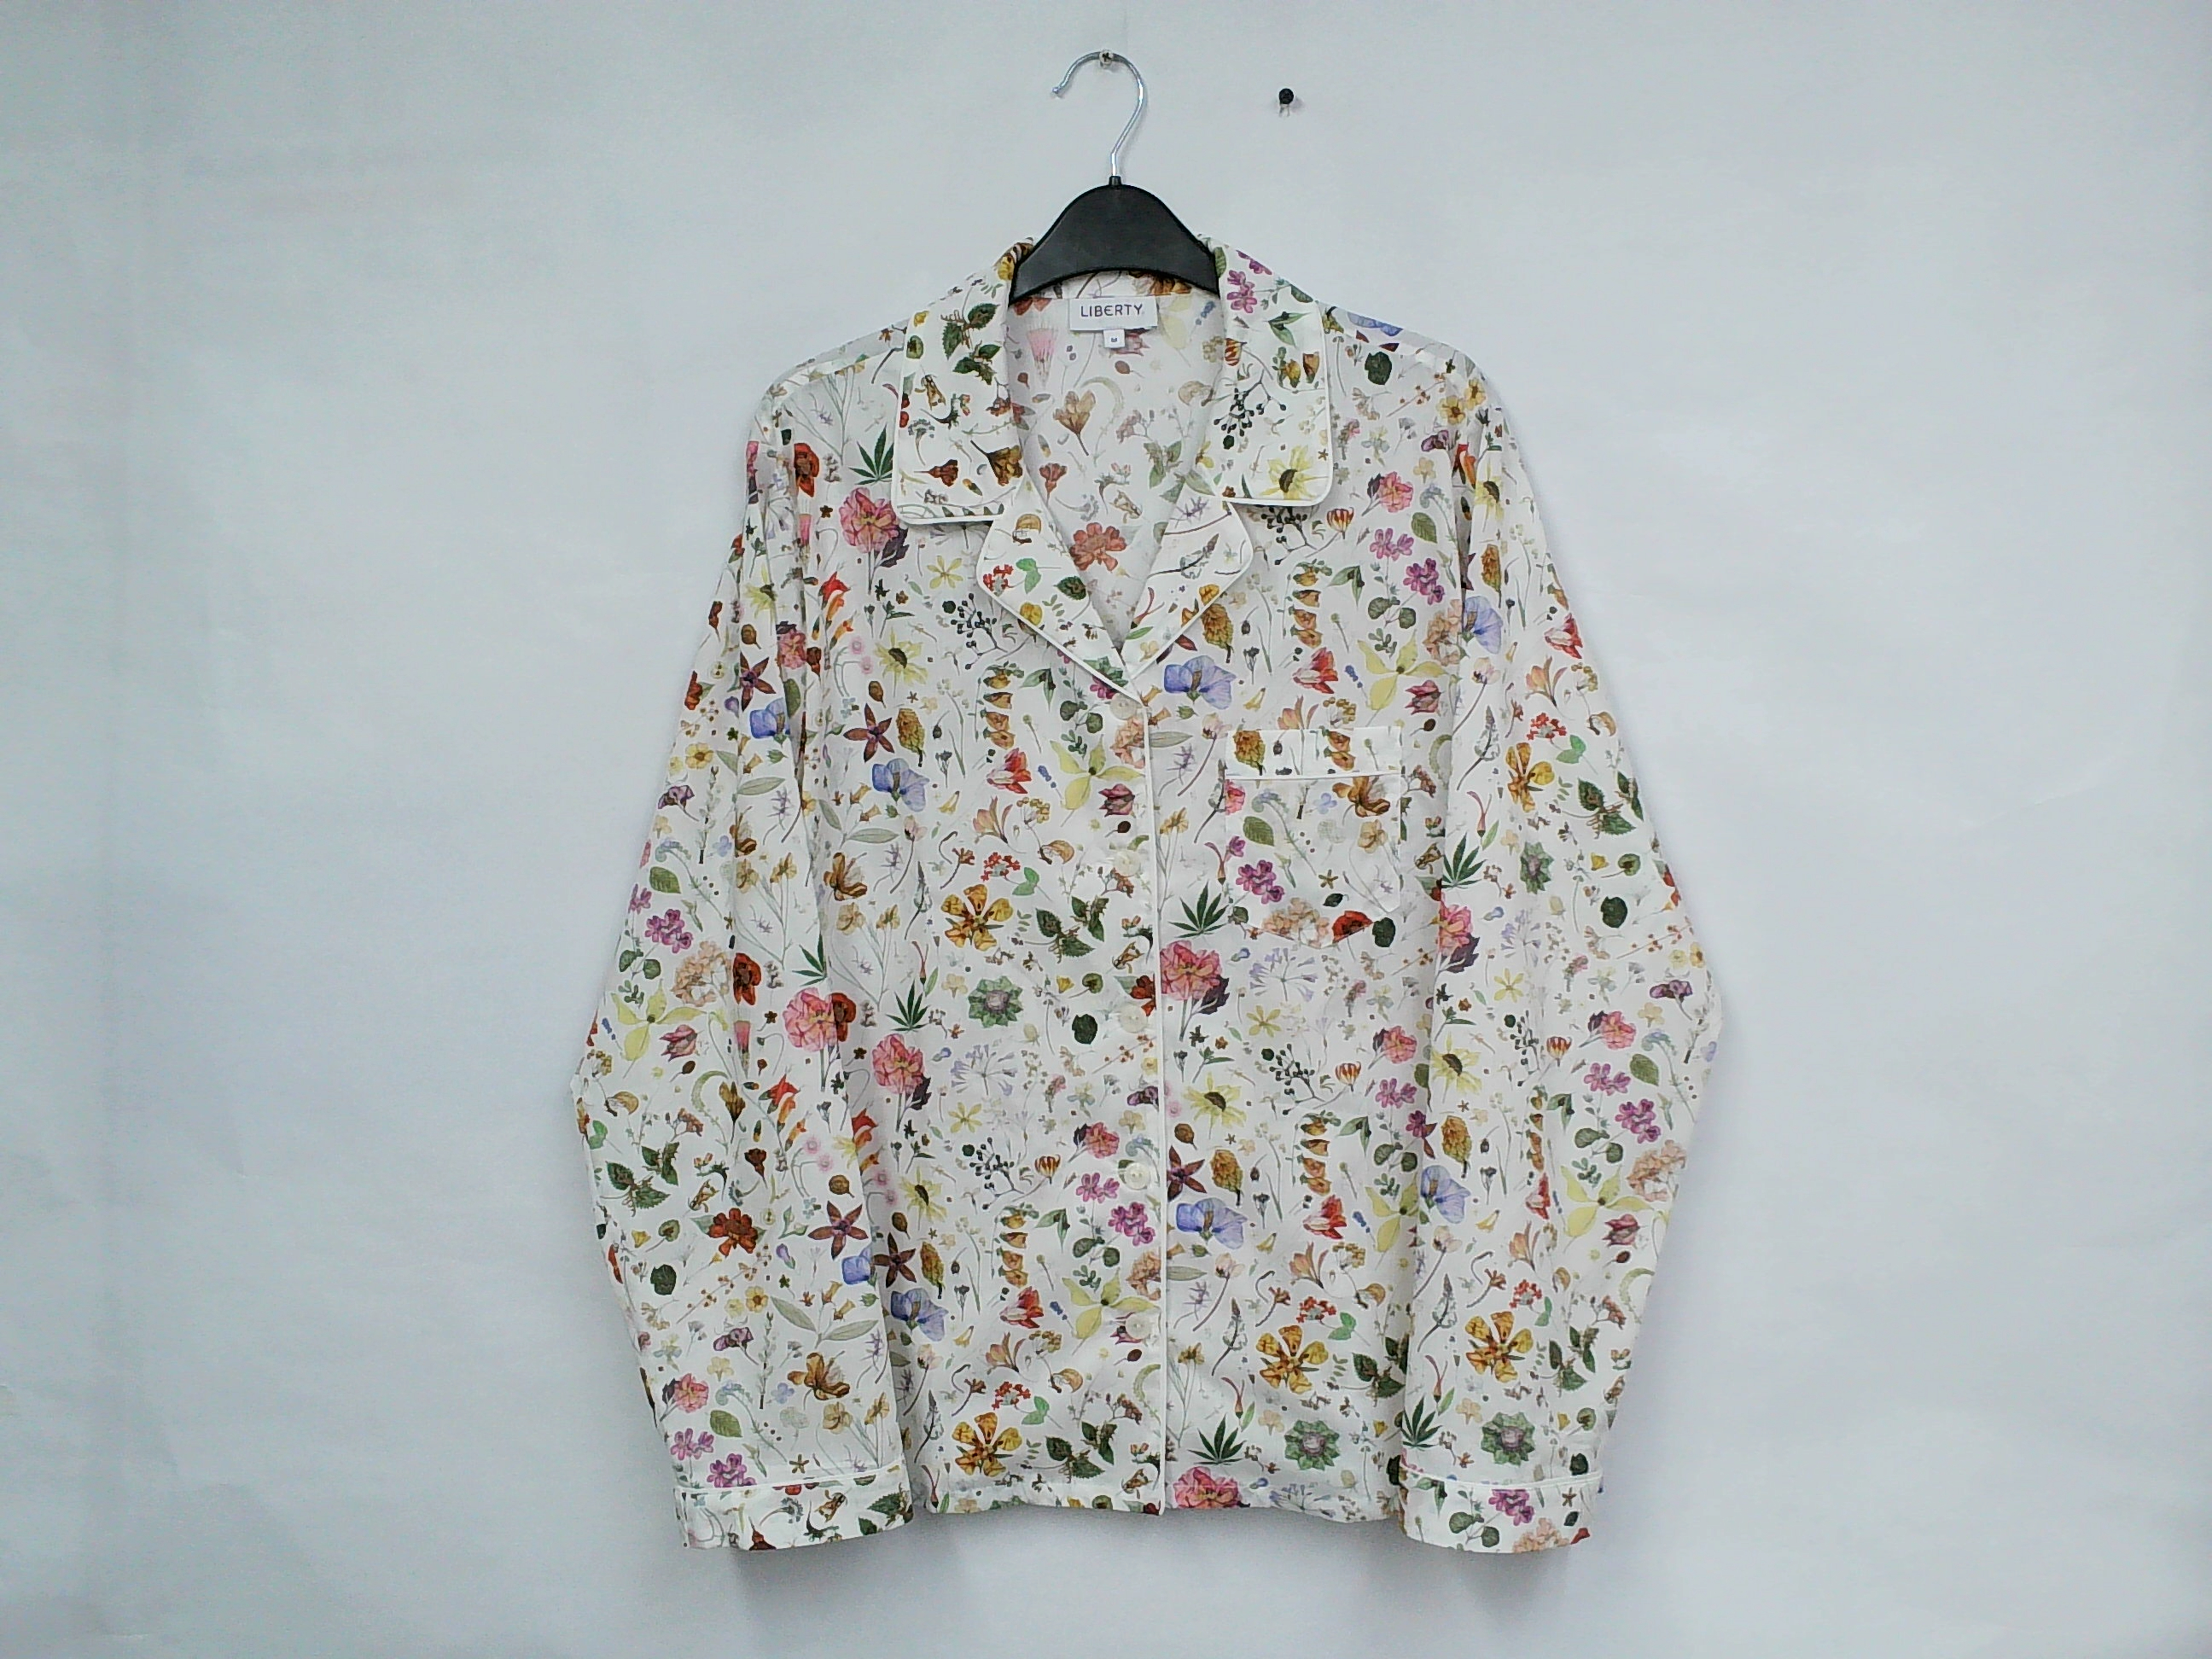seam: (1402, 1432, 1615, 1520)
